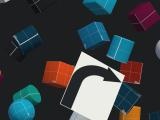Right: (60, 51, 125, 120)
